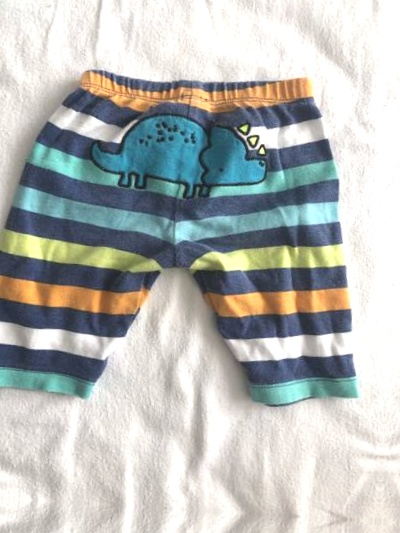Pants: (0, 56, 380, 412)
